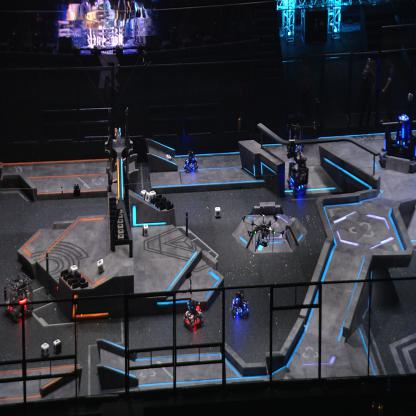car: (3, 271, 34, 323), (288, 154, 309, 196), (183, 298, 204, 332), (230, 291, 250, 319), (286, 124, 304, 155), (183, 149, 198, 174)
